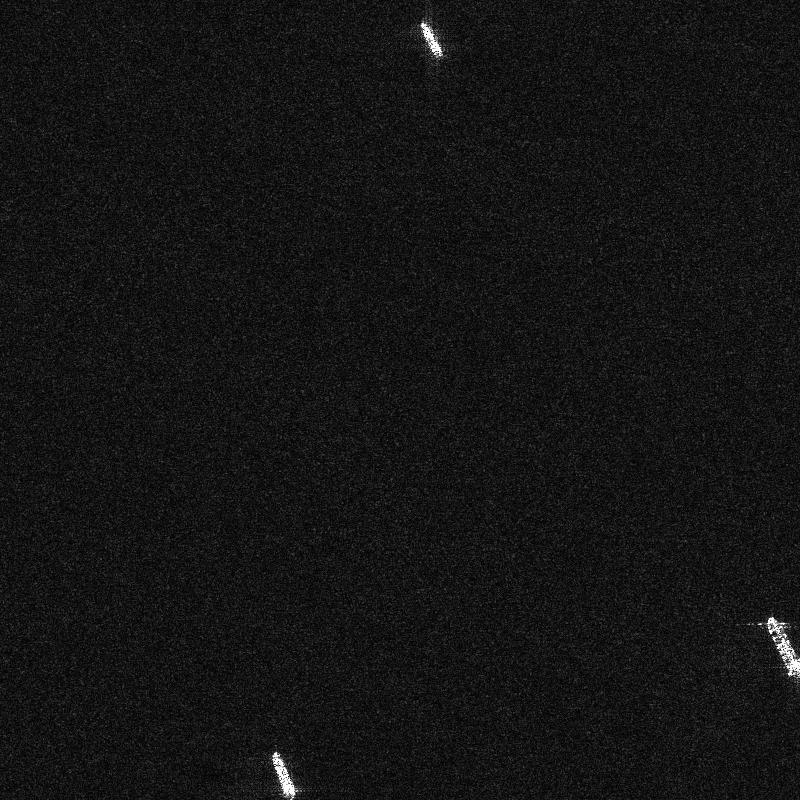ship: (766, 616, 799, 678), (271, 751, 296, 798), (419, 22, 443, 57)
